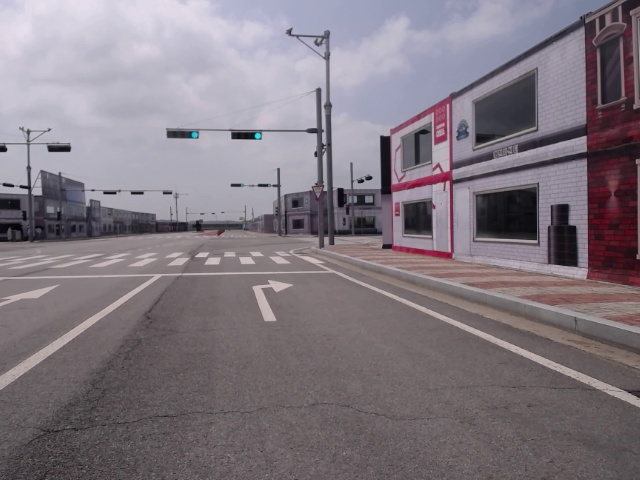straight_green_4: (168, 129, 199, 140), (232, 131, 264, 140), (230, 183, 245, 188), (257, 183, 272, 187)
